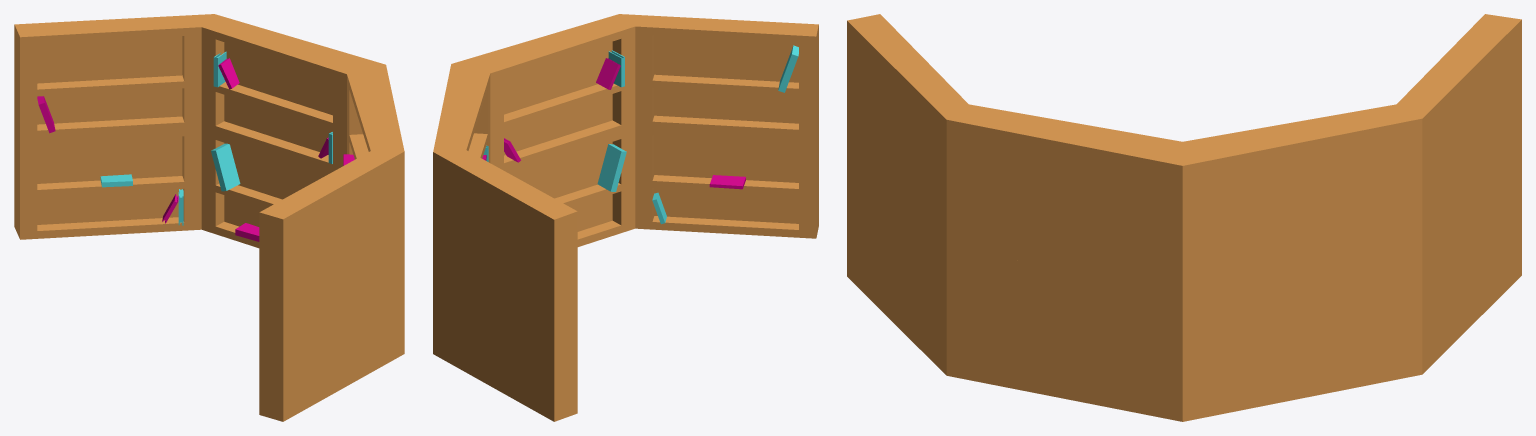
Rendered from rak melengkung.fbx.
3 views of the same model, side by side, from view 1: azimuth 30°, elevation 25°; view 2: azimuth 150°, elevation 25°; view 3: azimuth 270°, elevation 25° (orthographic). The views are drawn at different scales.
Parts seen in each view (by area): view 1: Circle, Plane.004, Plane.012, Plane.001; view 2: Circle, Plane.006, Plane.009, Cube.001, Plane.011; view 3: Circle.
Part boxes in pixels (x1,y1,x2,y2): Circle: (14,14,404,421); Plane.004: (211,143,240,191); Plane.012: (100,174,132,187); Plane.001: (218,58,239,89); Circle: (433,14,818,421); Plane.006: (597,144,626,191); Plane.009: (596,58,620,89); Cube.001: (709,175,745,189); Plane.011: (778,45,798,92); Circle: (847,14,1521,421).
Size of the model in its own units: 1.19 by 0.9344 by 2.23.
